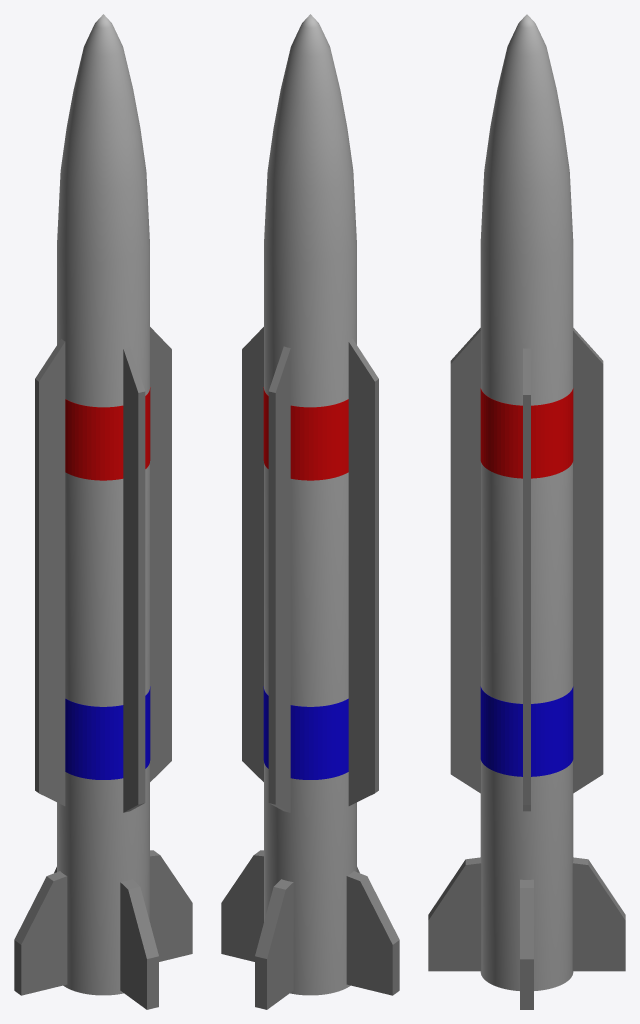
The model's file is Missile.fbx.
3 renders of one model, left to right at view 1: azimuth 30°, elevation 25°; view 2: azimuth 150°, elevation 25°; view 3: azimuth 270°, elevation 25°, orthographic.
Parts seen in each view (by area): view 1: Cylinder, Plane, Plane.007, Cylinder.001, Cylinder.002; view 2: Cylinder, Plane, Plane.007, Cylinder.001, Cylinder.002; view 3: Cylinder, Plane, Plane.007, Cylinder.001, Cylinder.002.
Boxes of the visible parts, <box> form: Cylinder: <box>57,14,149,995</box>; Plane: <box>35,327,171,812</box>; Plane.007: <box>14,850,192,1009</box>; Cylinder.001: <box>65,387,150,480</box>; Cylinder.002: <box>65,686,150,779</box>; Cylinder: <box>264,14,356,995</box>; Plane: <box>242,327,378,812</box>; Plane.007: <box>221,850,399,1009</box>; Cylinder.001: <box>263,387,348,480</box>; Cylinder.002: <box>263,686,348,779</box>; Cylinder: <box>480,14,573,990</box>; Plane: <box>450,328,603,811</box>; Plane.007: <box>428,857,625,1009</box>; Cylinder.001: <box>480,388,573,478</box>; Cylinder.002: <box>480,686,573,776</box>.
Bounding box in the file's own units: 47.68 × 255 × 47.68.
